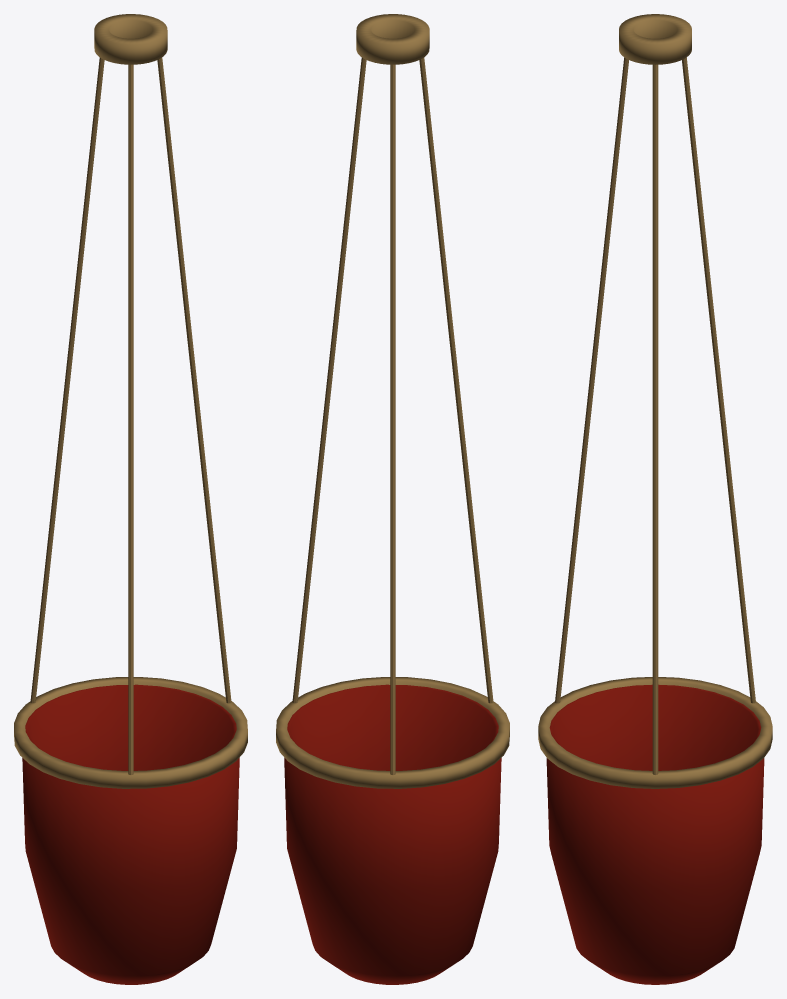
Rendered from Lampada06.fbx.
The picture shows the model from 3 angles, left to right: view 1: azimuth 30°, elevation 25°; view 2: azimuth 150°, elevation 25°; view 3: azimuth 270°, elevation 25°; orthographic projection.
Parts seen in each view (by area): view 1: Lampada red glass cup, Lampada brass rim, Lampada suspension 3, Lampada suspension 1, Lampada suspension 2, Lampada suspension ring; view 2: Lampada red glass cup, Lampada brass rim, Lampada suspension 2, Lampada suspension 1, Lampada suspension 3, Lampada suspension ring; view 3: Lampada red glass cup, Lampada brass rim, Lampada suspension 1, Lampada suspension 2, Lampada suspension 3, Lampada suspension ring.
Part boxes in pixels (x1,y1,x2,y2): Lampada red glass cup: [22, 684, 239, 984]; Lampada brass rim: [14, 677, 247, 788]; Lampada suspension 3: [128, 64, 133, 774]; Lampada suspension 1: [157, 57, 231, 703]; Lampada suspension 2: [30, 57, 104, 703]; Lampada suspension ring: [94, 14, 167, 64]; Lampada red glass cup: [284, 684, 501, 984]; Lampada brass rim: [276, 677, 509, 788]; Lampada suspension 2: [390, 64, 395, 774]; Lampada suspension 1: [292, 57, 366, 703]; Lampada suspension 3: [419, 57, 493, 703]; Lampada suspension ring: [356, 14, 429, 64]; Lampada red glass cup: [546, 684, 764, 984]; Lampada brass rim: [538, 677, 772, 788]; Lampada suspension 1: [652, 64, 658, 774]; Lampada suspension 2: [682, 57, 755, 703]; Lampada suspension 3: [555, 57, 628, 703]; Lampada suspension ring: [619, 14, 691, 64].
Bounding box in the file's own units: 6.4 × 28.1 × 6.4.
